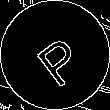P_NW: (25, 24, 85, 86)
